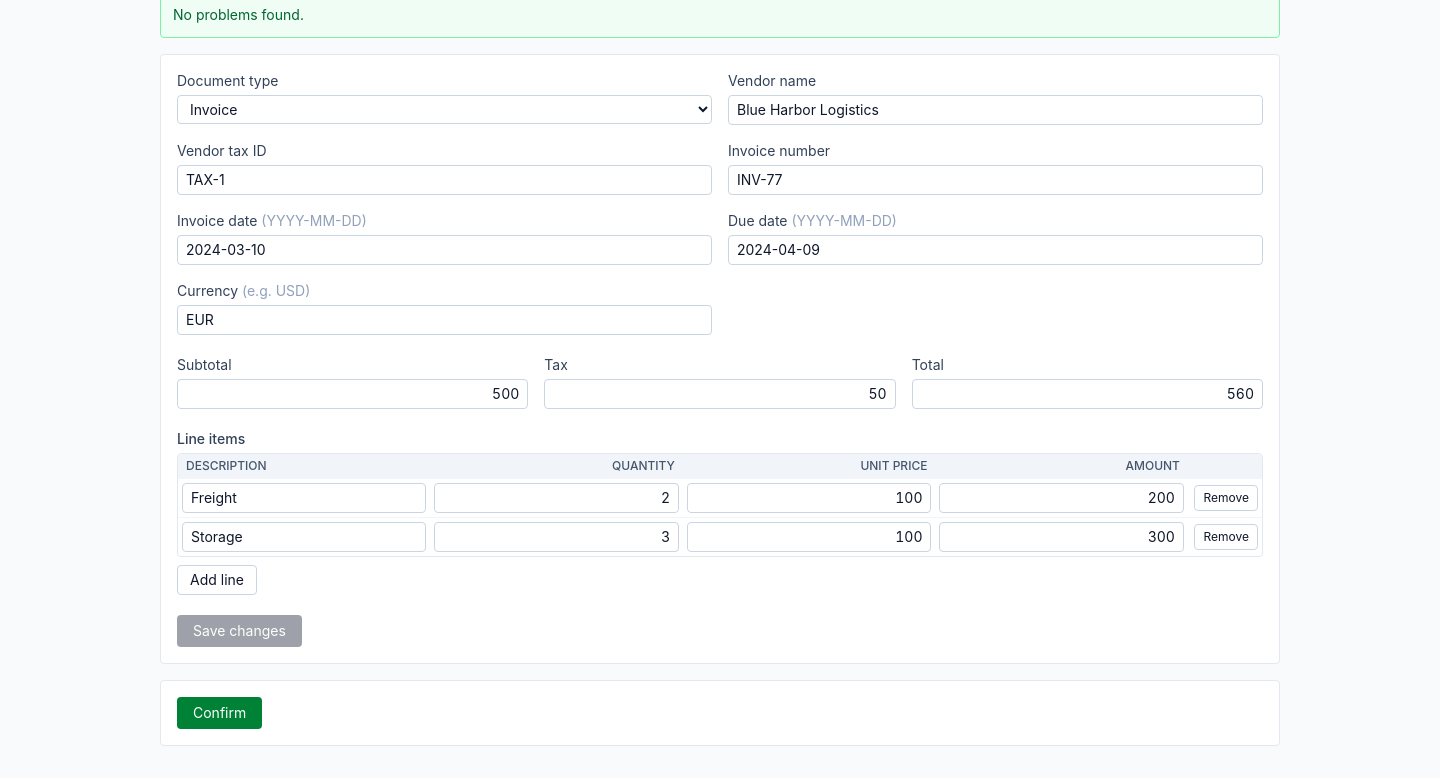
Document detail page › Confirm › shows the backend message when a confirm is refused, and reads the document again
(page scrolled)
Step 1. Click the button "Confirm" → {"x": 220, "y": 713}, box [177,697,262,729]
(page scrolled)
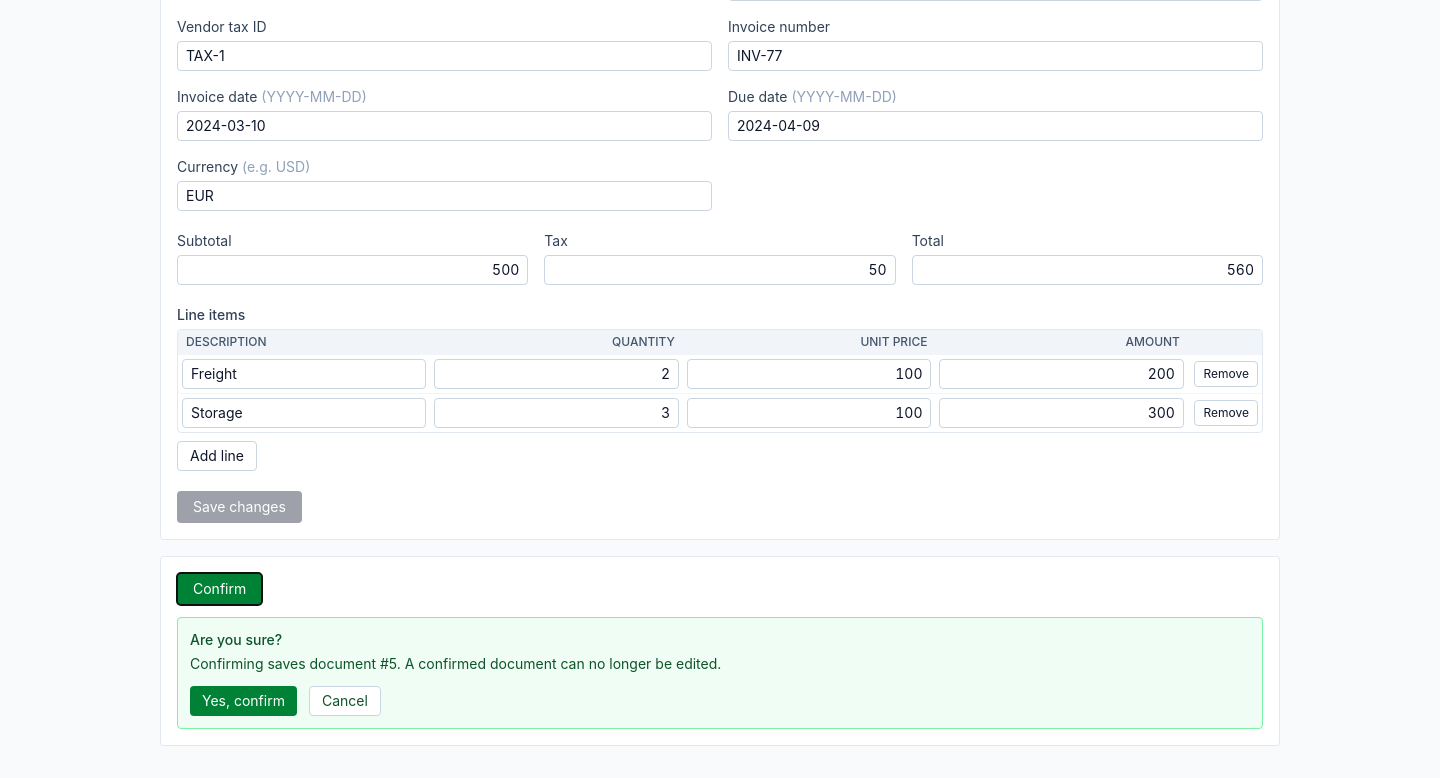
Step 2. Click the button "Yes, confirm" → {"x": 244, "y": 701}, box [190,686,297,716]
(page scrolled)
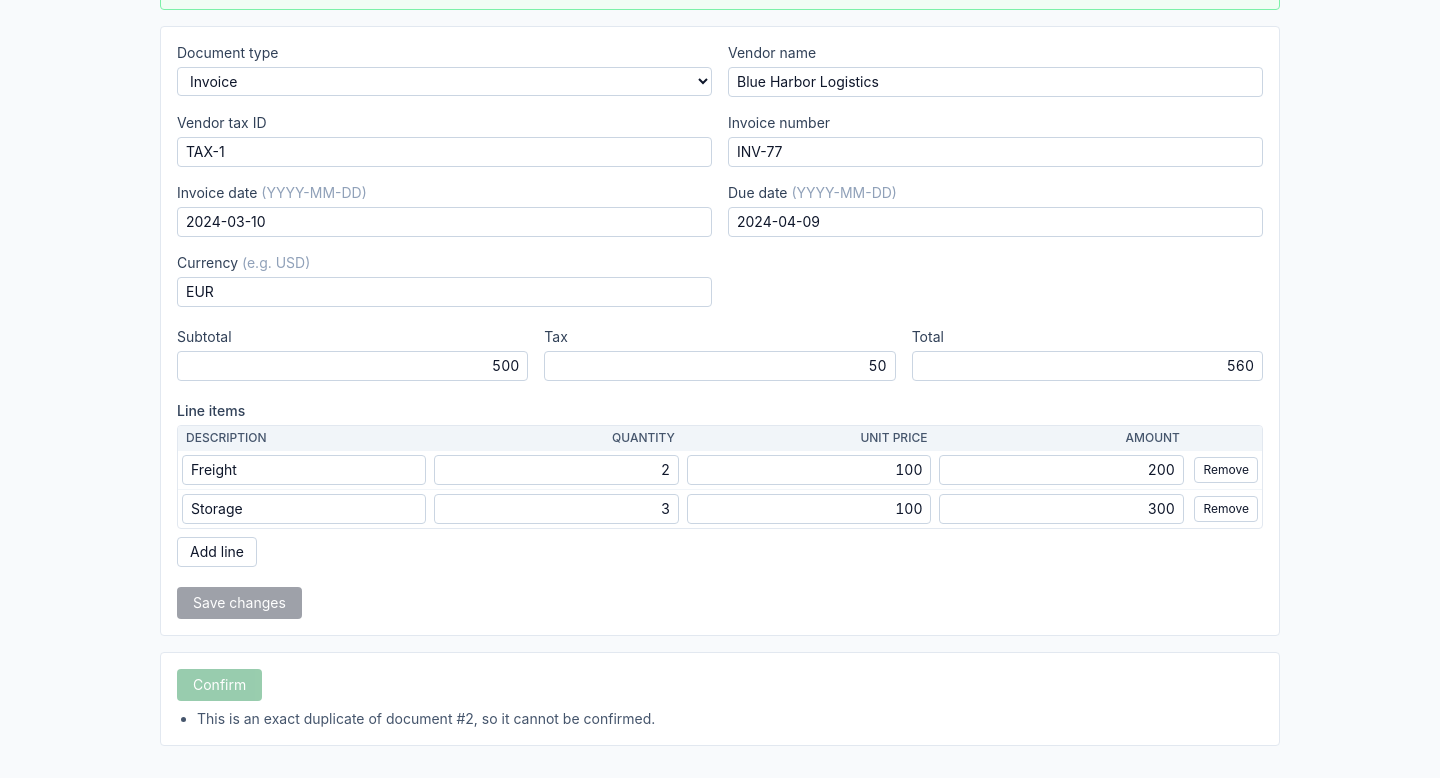
Expected: the button "Confirm" is disabled, [177,669,262,701]
